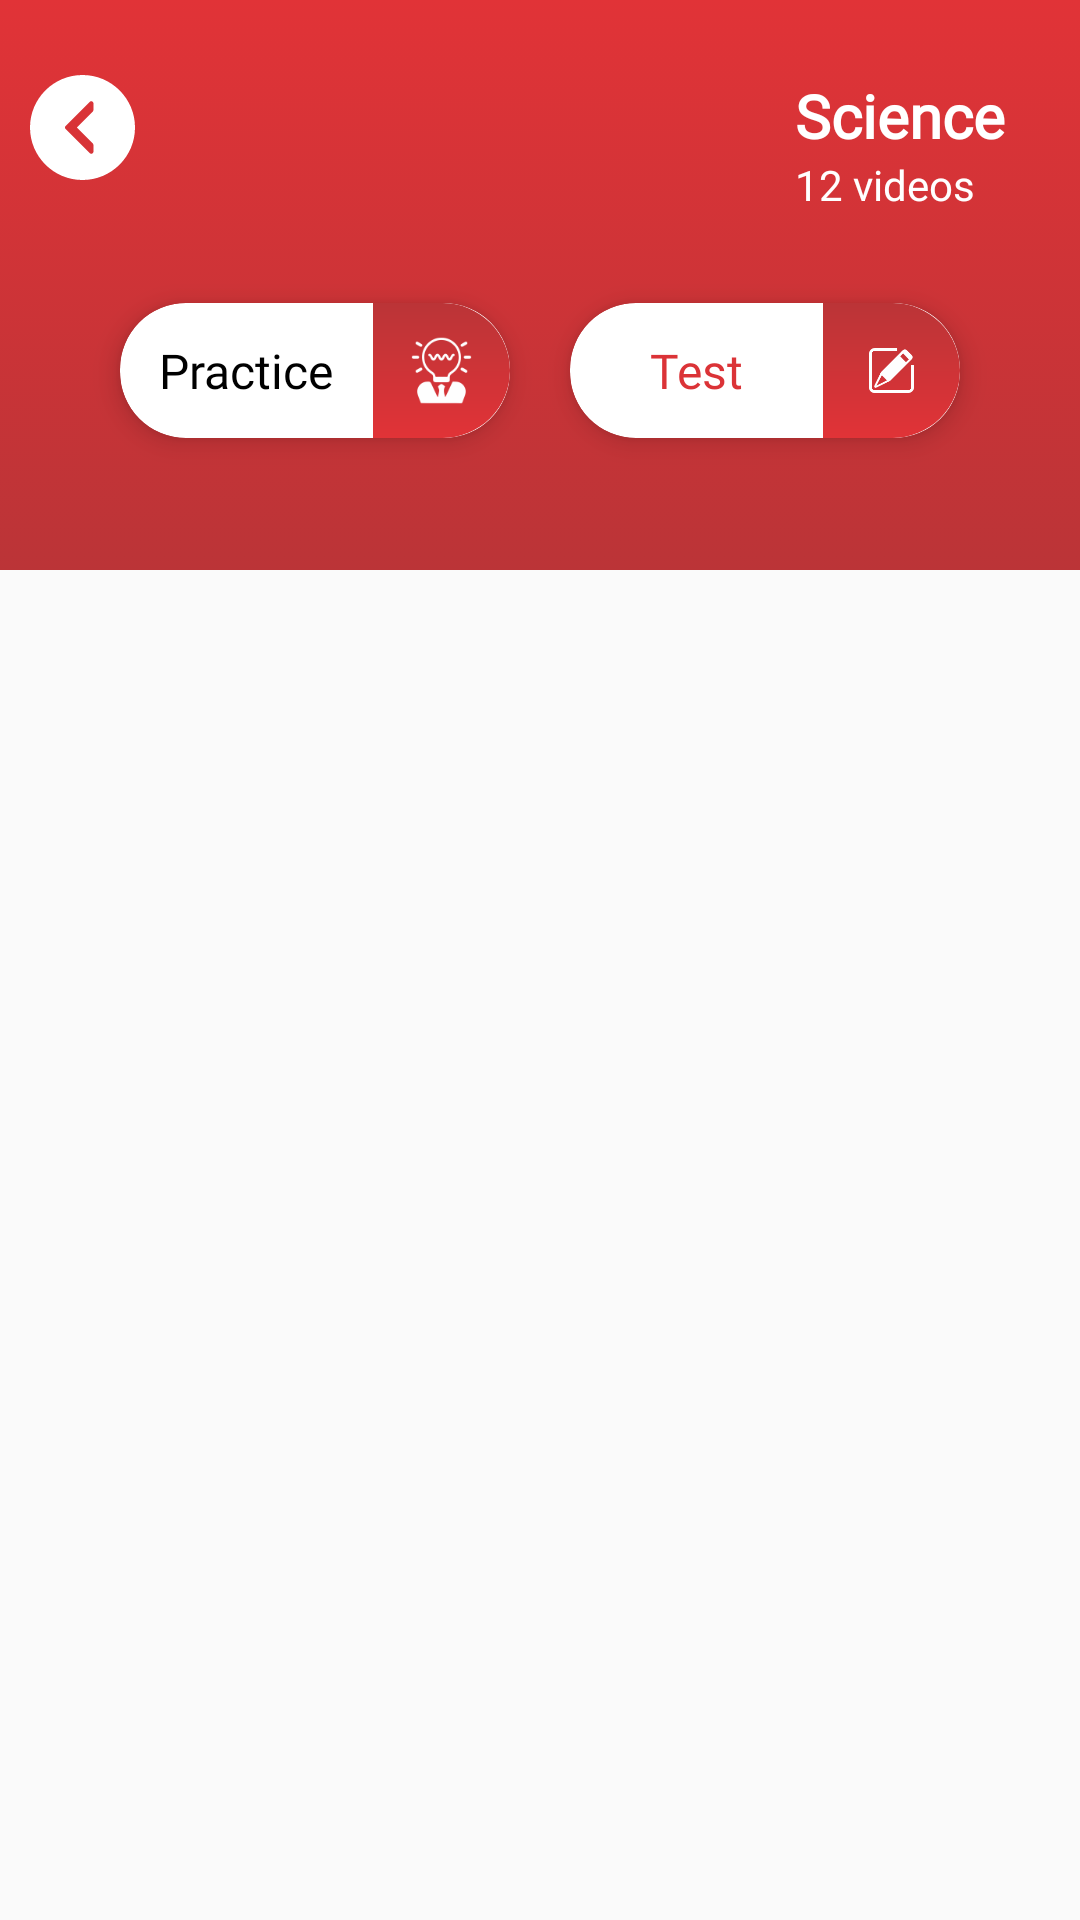

Icon click points for this 1080 x 1920 phone screenshot, format (x=x, y=y):
back: (x=82, y=127)
